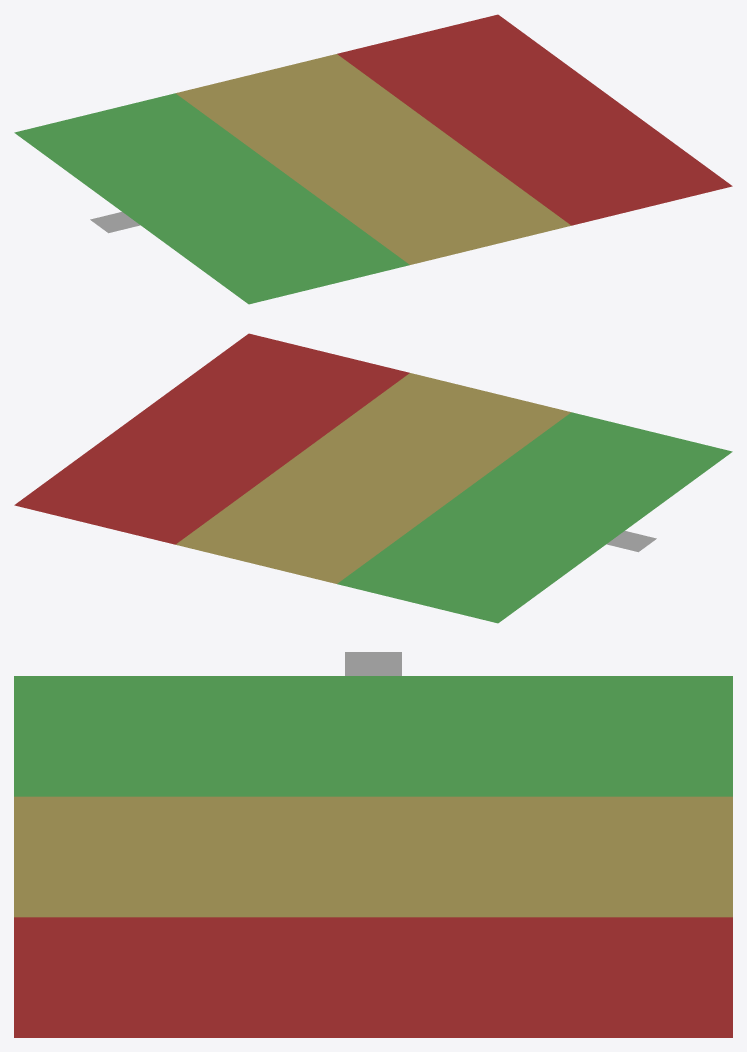
File: RangeField.fbx
The picture shows the model from 3 angles, top to bottom: view 1: azimuth 30°, elevation 25°; view 2: azimuth 150°, elevation 25°; view 3: azimuth 270°, elevation 25°; orthographic projection. The views are drawn at different scales.
Parts seen in each view (by area): view 1: pPlane6; view 2: pPlane6; view 3: pPlane6.
Part boxes in pixels (x1=…): pPlane6: x1=14, y1=14, x2=732, y2=304; pPlane6: x1=14, y1=333, x2=732, y2=623; pPlane6: x1=14, y1=652, x2=732, y2=1037.
Bounding box in the file's own units: 32 × 2.22e-16 × 25.2.
